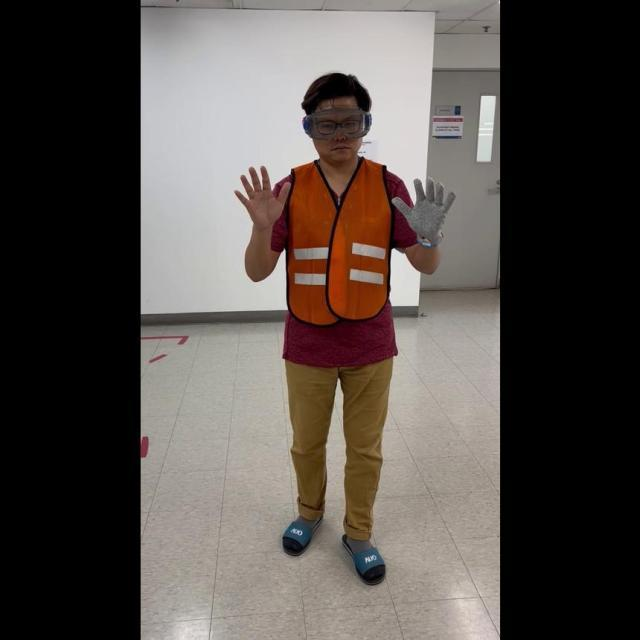bare_hand: (232, 159, 288, 230)
gloved_hand: (391, 172, 454, 246)
